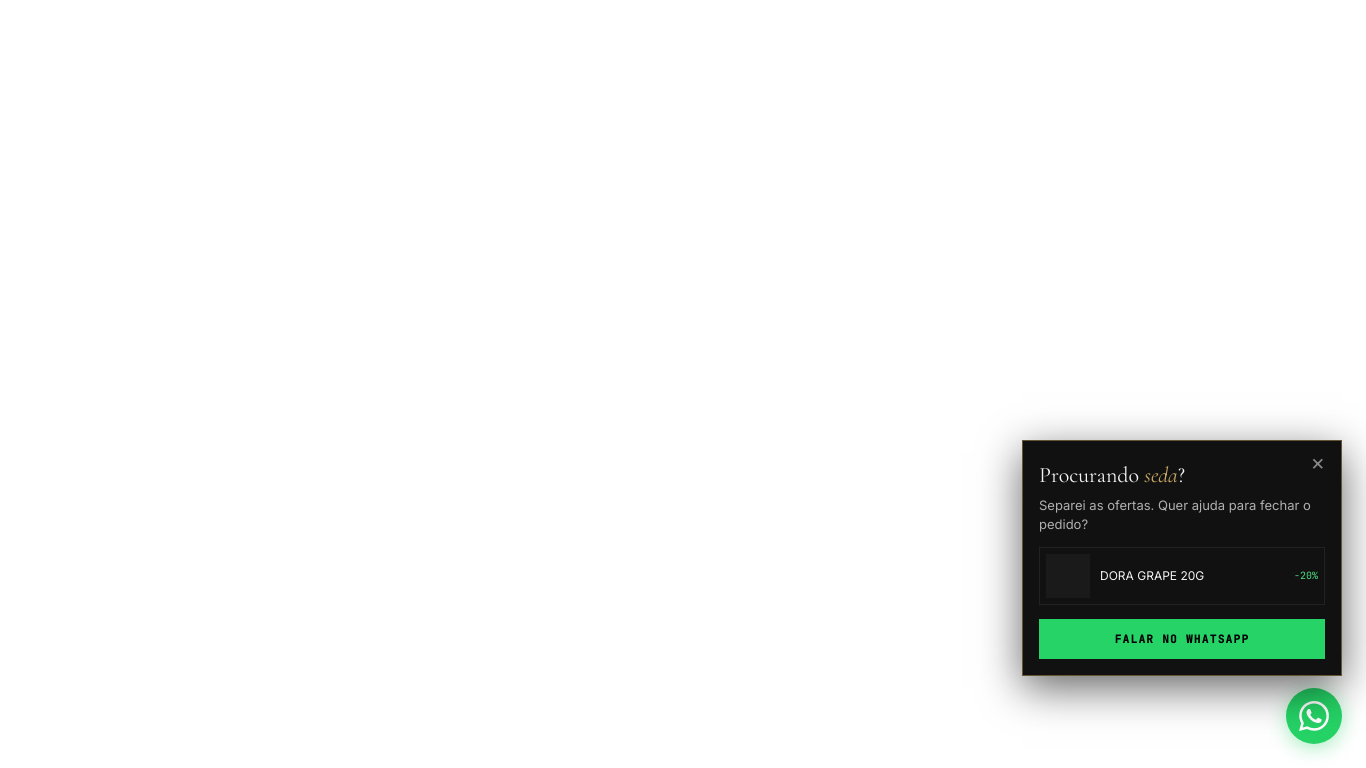
Test: assistente do WhatsApp › o mesmo termo não aparece de novo na visita
Click the button named "Fechar" at (1318, 462), box [1302,446,1333,476]
Wait 4000 ms
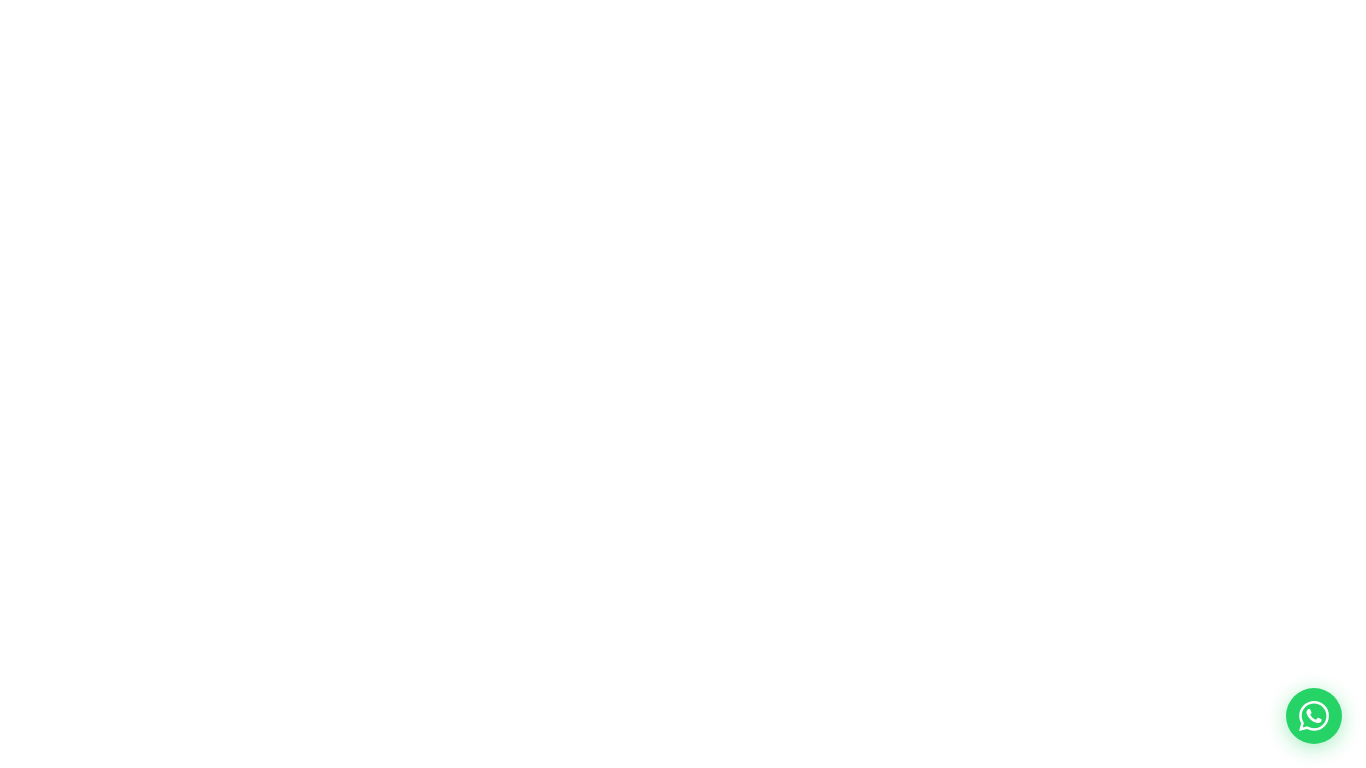
Now the dialog is gone
